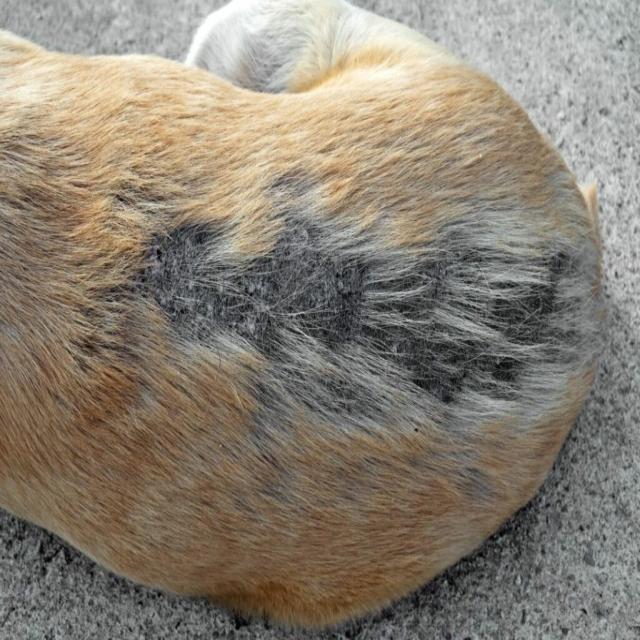fungal infection: (157, 205, 587, 401), (76, 250, 149, 367), (380, 118, 478, 196), (325, 434, 448, 496), (233, 398, 294, 491), (262, 152, 321, 200), (116, 169, 152, 231), (458, 459, 492, 509)
